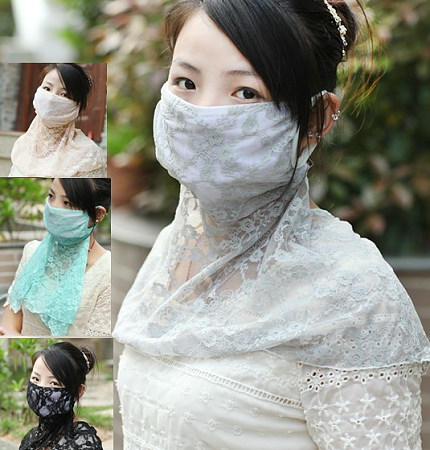face_mask: (157, 12, 285, 191), (44, 179, 85, 239), (28, 358, 67, 417), (34, 70, 71, 120)
